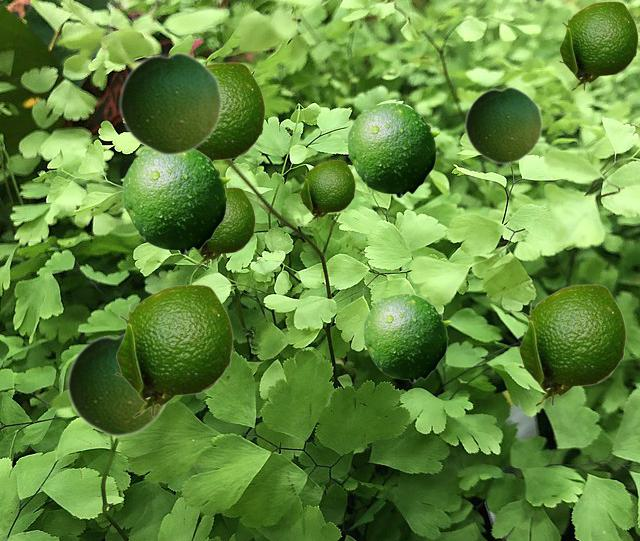dalandan: (114, 284, 232, 417), (517, 284, 625, 406), (122, 149, 230, 254), (66, 331, 170, 437), (118, 50, 222, 156), (347, 102, 439, 197), (363, 293, 450, 382), (558, 1, 637, 90), (198, 62, 264, 162), (464, 85, 542, 164), (194, 187, 254, 266), (299, 160, 354, 222)
